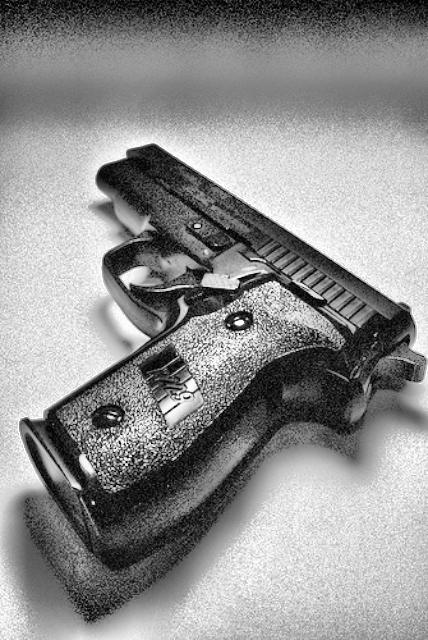pistol: (20, 141, 427, 565)
